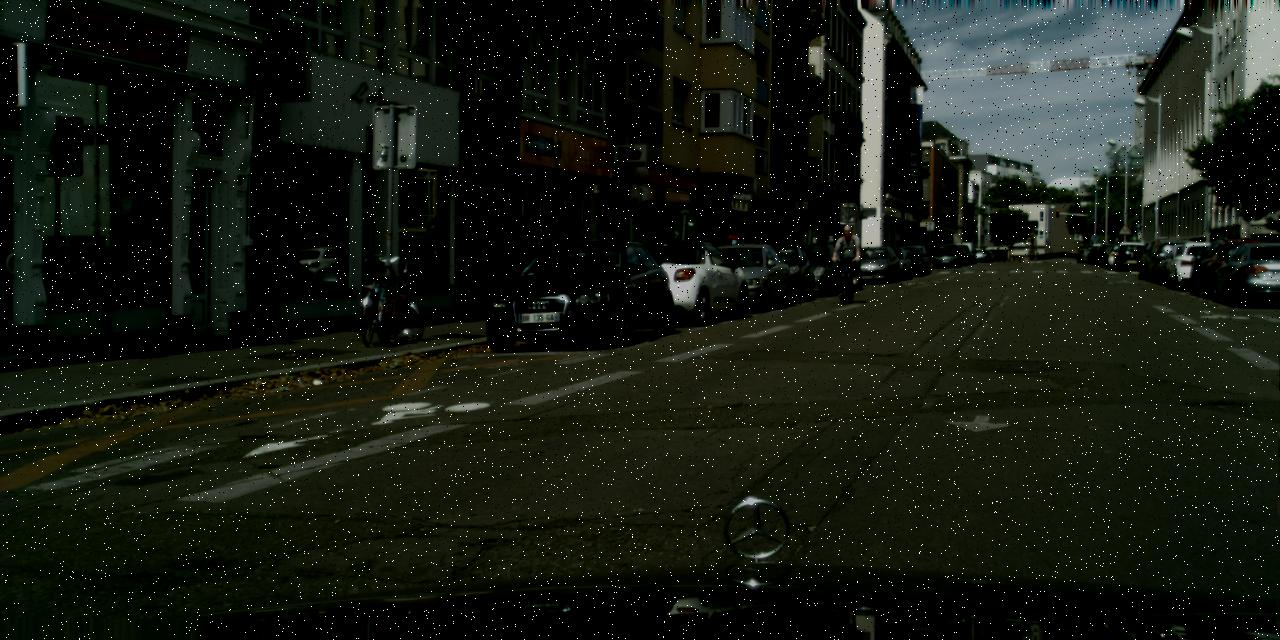ped: (832, 225, 862, 296)
